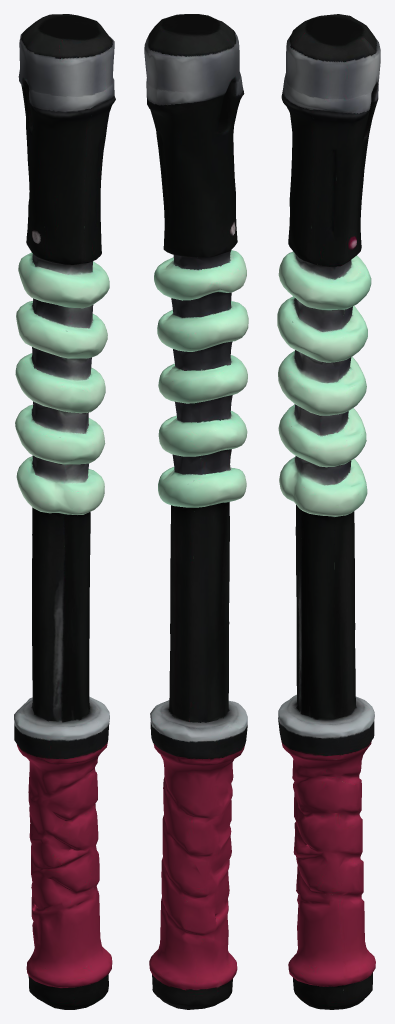
File: volt_baton_PC.glb
The picture shows the model from 3 angles, left to right: view 1: azimuth 30°, elevation 25°; view 2: azimuth 150°, elevation 25°; view 3: azimuth 330°, elevation 25°; orthographic projection.
Parts seen in each view (by area): view 1: volt_baton; view 2: volt_baton; view 3: volt_baton.
Boxes of the visible parts, x1,y1,x2,y2 form: volt_baton: [14, 14, 115, 1009]; volt_baton: [144, 14, 248, 1009]; volt_baton: [277, 14, 380, 1009].
Bounding box in the file's own units: 0.0636 × 0.65 × 0.0603.
Materials: 1 (1 with a texture image).
